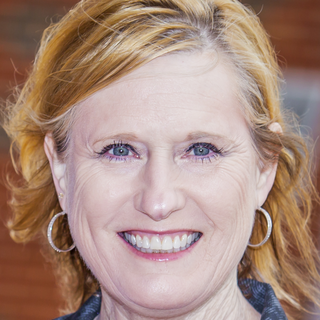eye: (168, 138, 227, 168), (93, 140, 144, 166)
